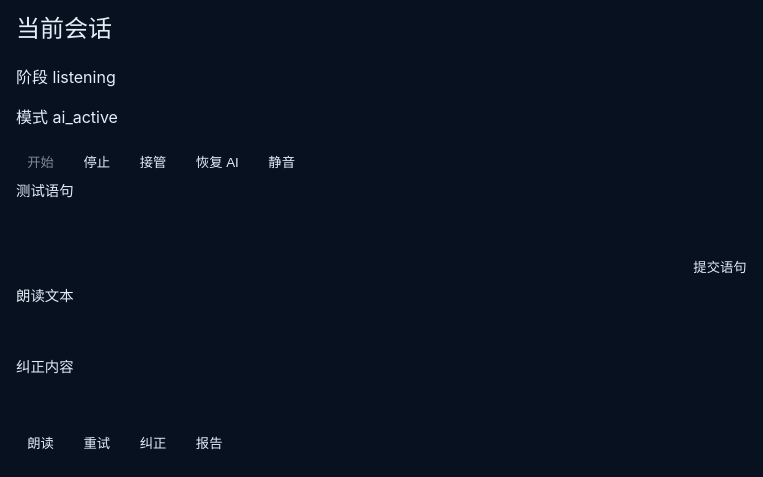
Test: WorkspaceSession › keeps 停止 and 接管 enabled while a command is in flight
Expected: the text "阶段 listening" is shown, [16,67,116,87]
Click the button "重试". click: (97, 443)
box: [72,425,121,460]
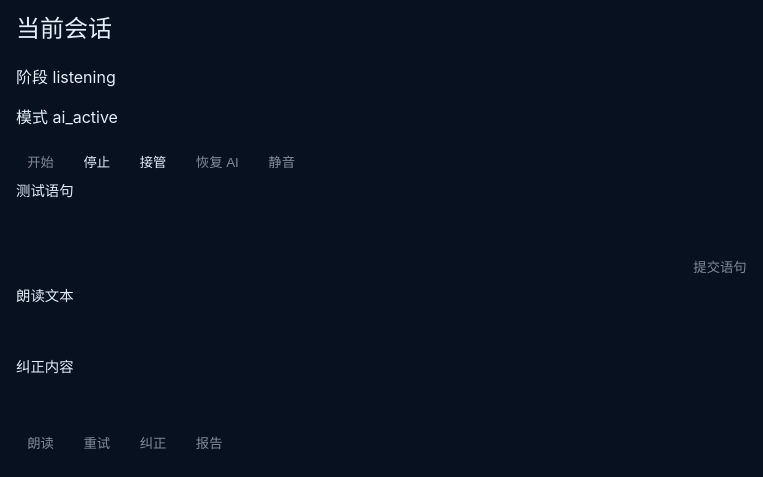
Expected: the button "停止" is enabled, [72,144,121,179]
Result: the button "朗读" is disabled at [16,425,65,460]
Result: the button "重试" is disabled at [72,425,121,460]
